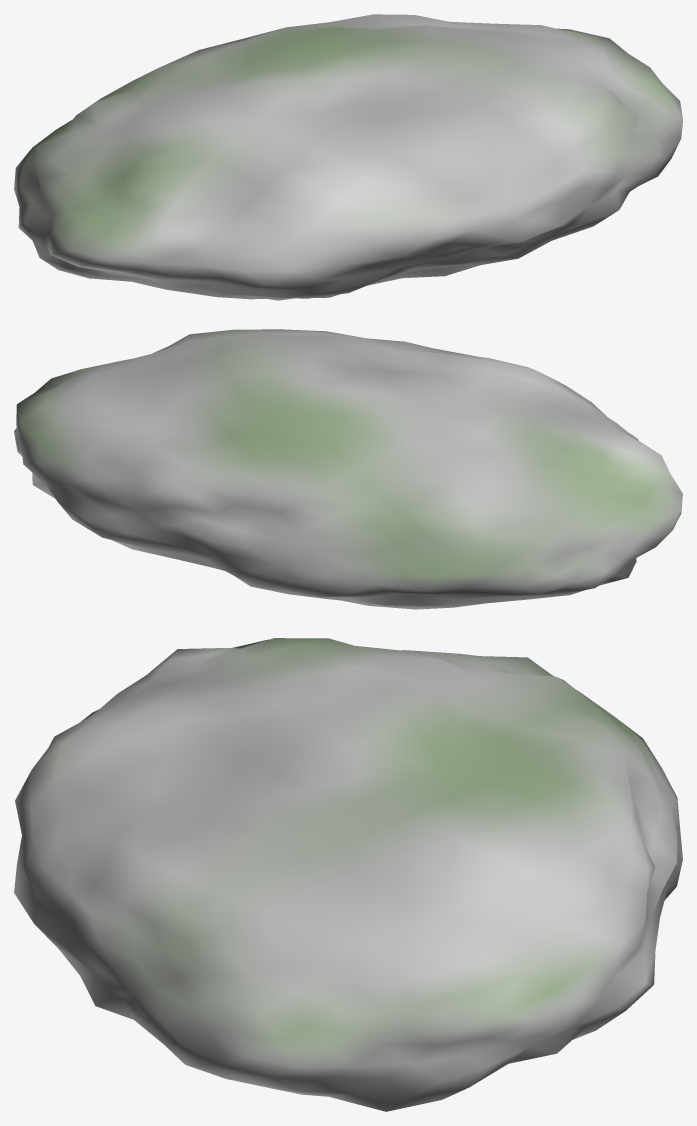
The model's file is rock_flat.glb.
3 views of the same model, one above another, from view 1: azimuth 30°, elevation 25°; view 2: azimuth 150°, elevation 25°; view 3: azimuth 270°, elevation 25° (orthographic). The views are drawn at different scales.
Visible parts, largest first — view 1: Rock; view 2: Rock; view 3: Rock.
Boxes of the visible parts, left/top/right/bottom form: Rock: left=14, top=14, right=682, bottom=300; Rock: left=14, top=329, right=682, bottom=609; Rock: left=14, top=638, right=682, bottom=1111.
Size of the model in its own units: 0.1456 by 0.0332 by 0.0993.
